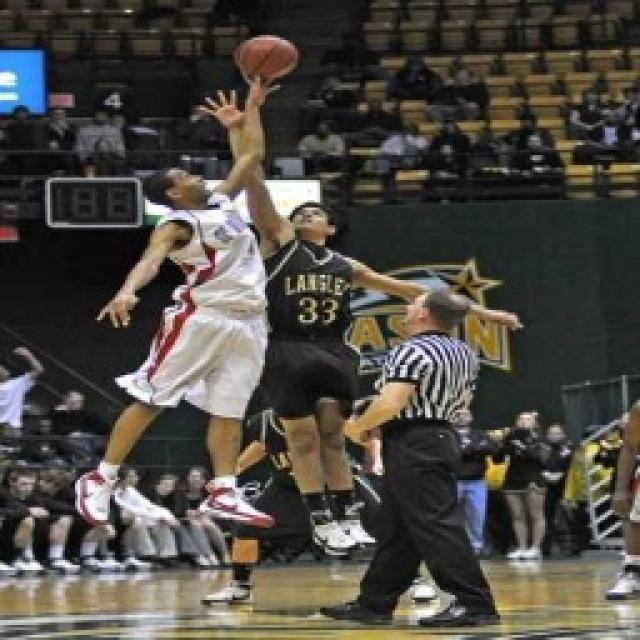rim: (234, 26, 302, 90)
